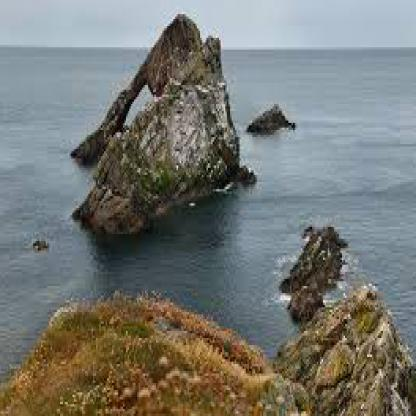Metamorphic_Quartize: (58, 9, 249, 246)
